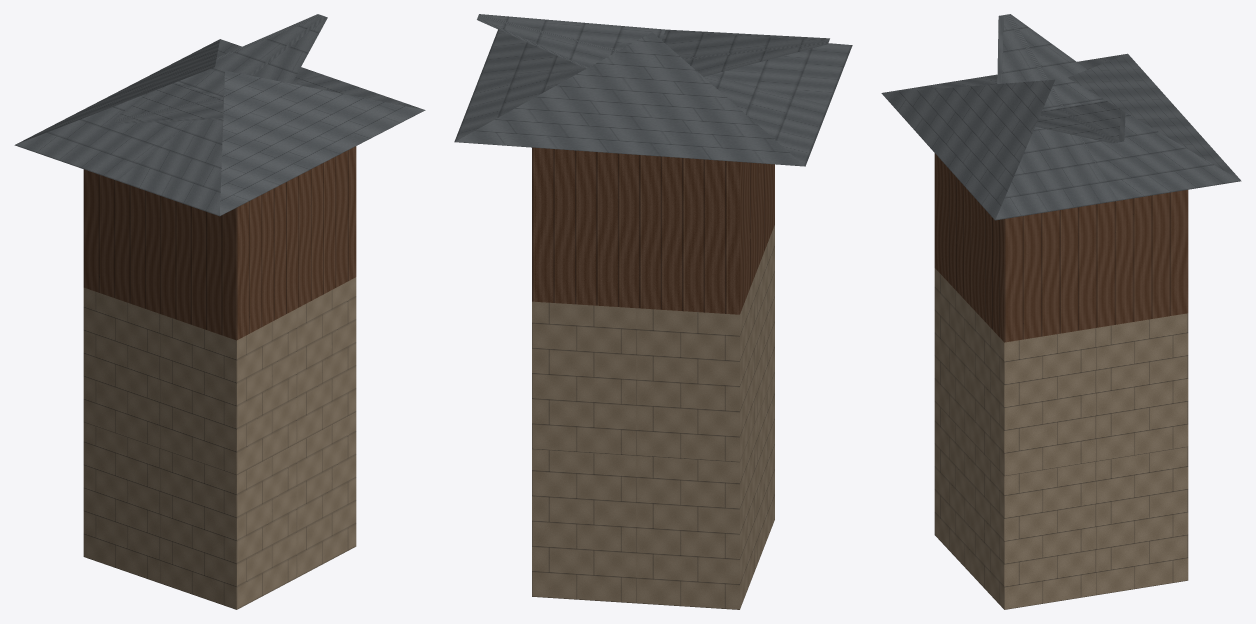
Rendered from bld_c16_26_395.gltf.
The picture shows the model from 3 angles, left to right: view 1: azimuth 30°, elevation 25°; view 2: azimuth 150°, elevation 25°; view 3: azimuth 270°, elevation 25°; orthographic projection. The views are drawn at different scales.
Parts seen in each view (by area): view 1: bld_c16_26_395; view 2: bld_c16_26_395; view 3: bld_c16_26_395.
Boxes of the visible parts, x1,y1,x2,y2 form: bld_c16_26_395: [14, 14, 425, 609]; bld_c16_26_395: [454, 14, 852, 609]; bld_c16_26_395: [881, 14, 1241, 609].
Size of the model in its own units: 6.12 by 8.2 by 5.59.
Materials: 3 (3 with a texture image).
